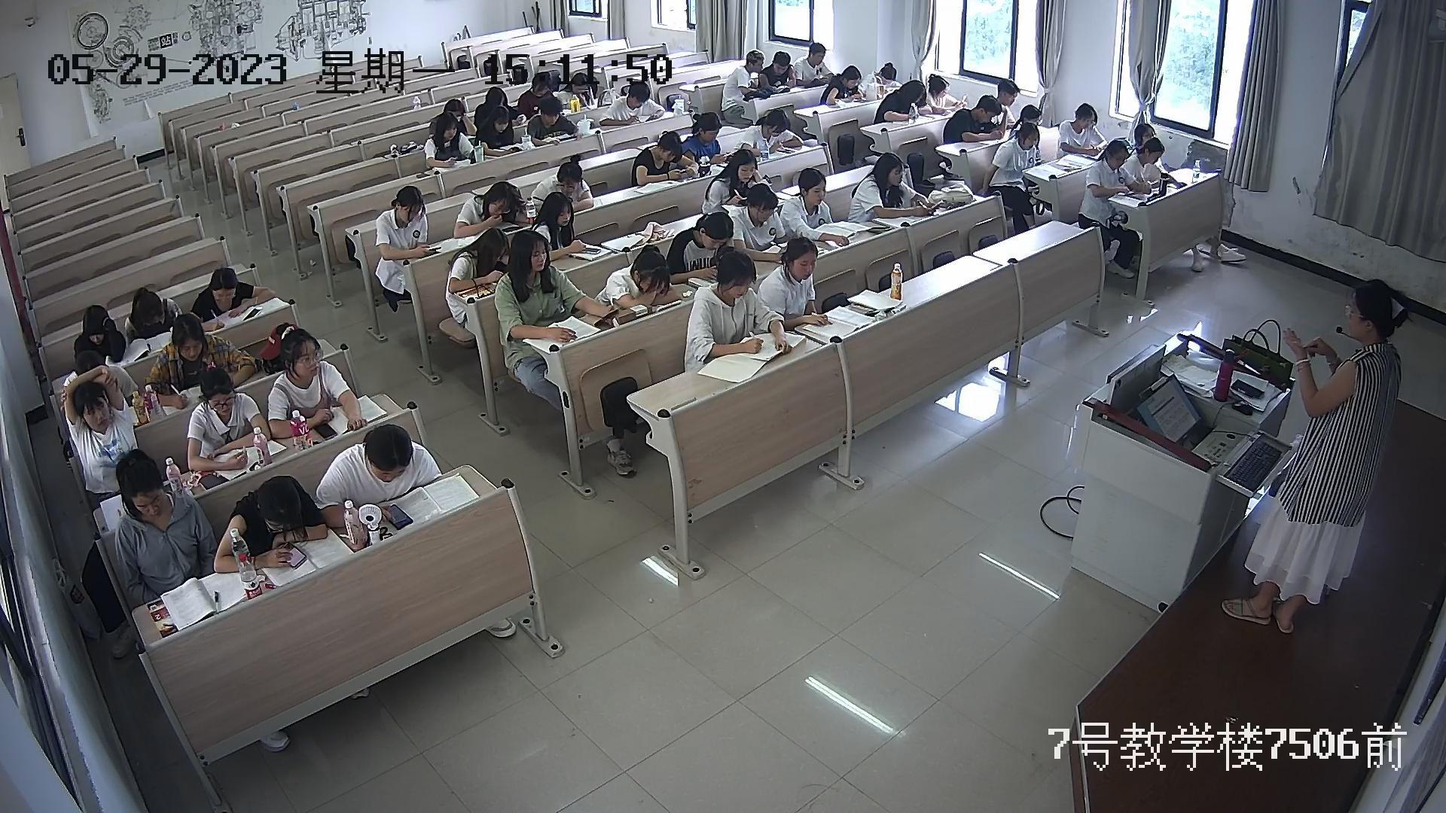Bend Over The Desk: (609, 249, 680, 308)
Normal: (268, 330, 375, 455)
Stand Up: (1268, 251, 1413, 638)
phone: (381, 494, 416, 537), (276, 530, 309, 575), (594, 299, 622, 328), (416, 238, 444, 260), (923, 196, 949, 217), (675, 163, 700, 182), (779, 139, 795, 159), (713, 149, 731, 162)
